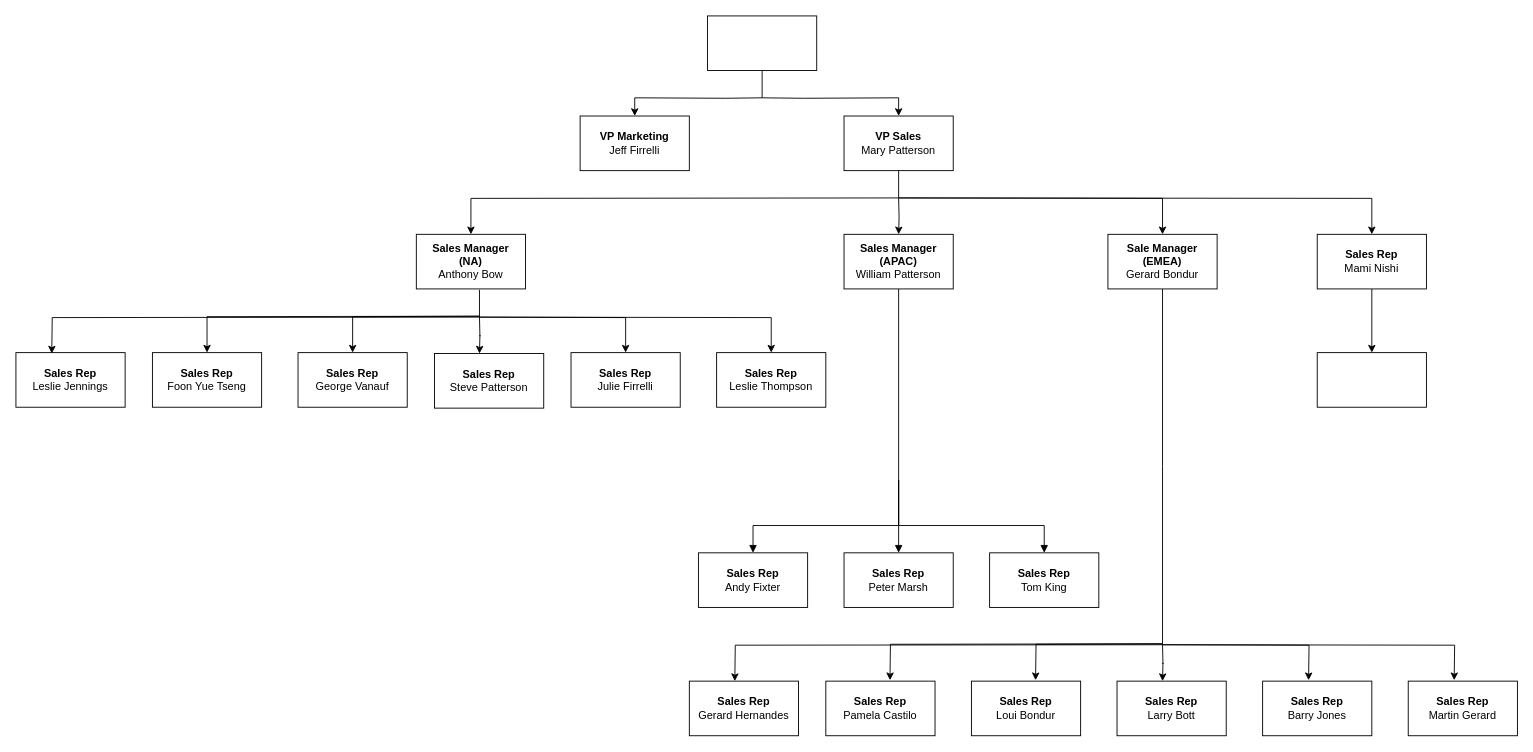
Some shapes in this 1533 by 752 pixel diagram are drawn without their labels. Here are the shapes that lost their labels. From the top down, the centre of each, then its label:
At point (762, 43): "President Diane Murphy".
At point (1371, 379): "Sales Rep Yoshimi Kato".
